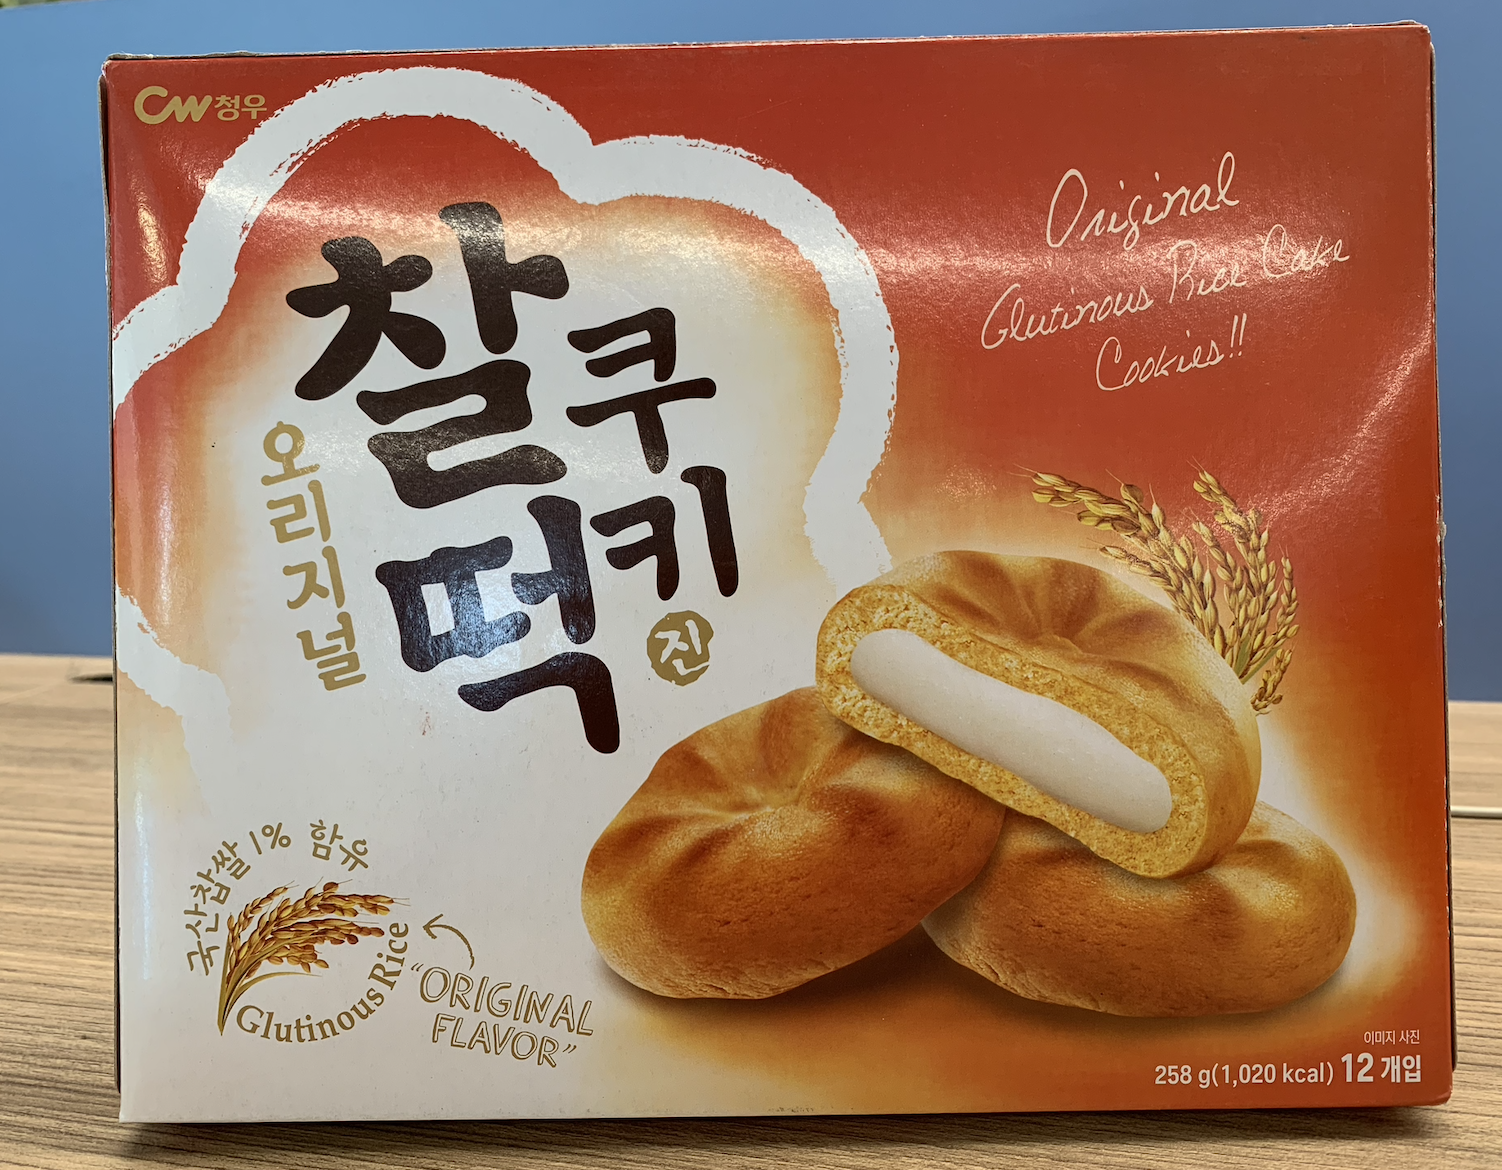cookies_150g: (133, 73, 1446, 1101)
